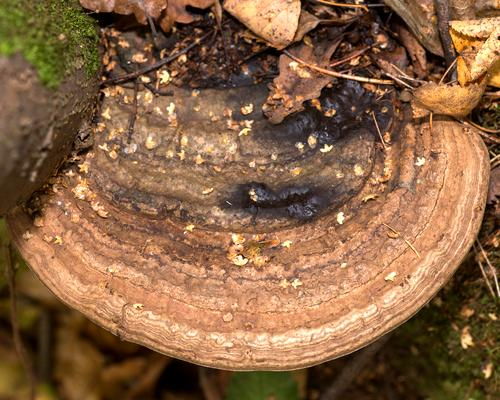Ganoderma - Fruit Body: (8, 45, 491, 370)
